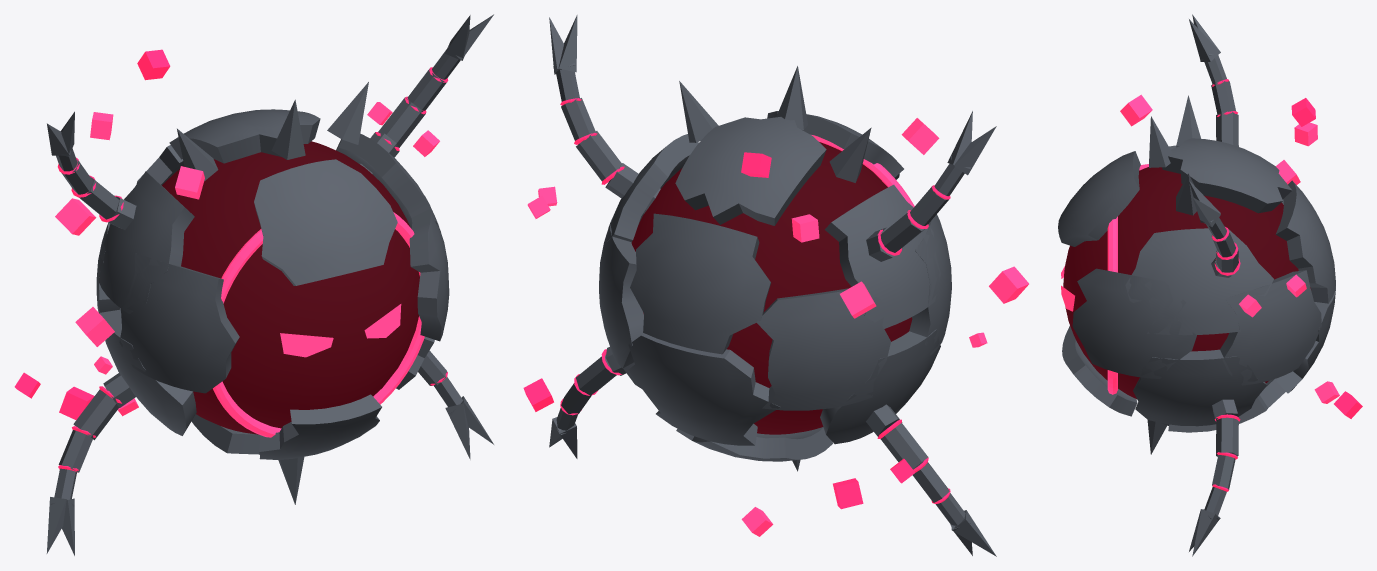
File: virus-boss.glb
The picture shows the model from 3 angles, left to right: view 1: azimuth 30°, elevation 25°; view 2: azimuth 150°, elevation 25°; view 3: azimuth 270°, elevation 25°; orthographic projection. The views are drawn at different scales.
Parts seen in each view (by area): view 1: Core, Brow, Shard_11, Shard_1, Jaw, Shard_8, Shard_10, Shard_3, FaceRing, Shard_0, Shard_9, ClawSeg_3_1 (+21 smaller); view 2: Core, Shard_4, Shard_7, Shard_8, Shard_5, Shard_1, Shard_3, Shard_6, Shard_0, Shard_11, Shard_9, Brow (+22 smaller); view 3: Core, Shard_10, Shard_0, Shard_6, Shard_2, Shard_8, Brow, Shard_4, Jaw, Shard_5, Shard_9, ClawSeg_2_1 (+17 smaller).
Part boxes in pixels (box(x1,y1,x2,y2)): Core: box(162, 141, 419, 434); Brow: box(254, 159, 397, 285); Shard_11: box(119, 253, 239, 393); Shard_1: box(98, 171, 194, 313); Jaw: box(259, 394, 381, 459); Shard_8: box(169, 109, 320, 163); Shard_10: box(402, 196, 449, 341); Shard_3: box(98, 308, 196, 435); FaceRing: box(213, 212, 424, 437); Shard_0: box(336, 133, 440, 231); Shard_9: box(191, 414, 260, 454); ClawSeg_3_1: box(73, 389, 118, 440); Core: box(631, 142, 912, 434); Shard_4: box(630, 213, 770, 354); Shard_7: box(756, 288, 890, 410); Shard_8: box(675, 117, 826, 225); Shard_5: box(628, 334, 780, 445); Shard_1: box(825, 184, 940, 328); Shard_3: box(820, 329, 940, 444); Shard_6: box(599, 217, 645, 368); Shard_0: box(607, 134, 698, 242); Shard_11: box(909, 214, 951, 355); Shard_9: box(676, 427, 832, 461); Brow: box(767, 111, 903, 179); Core: box(1063, 167, 1311, 398); Shard_10: box(1072, 268, 1196, 378); Shard_0: box(1125, 228, 1273, 335); Shard_6: box(1220, 270, 1321, 385); Shard_2: box(1133, 349, 1266, 426); Shard_8: box(1162, 138, 1292, 213); Brow: box(1058, 151, 1140, 246); Shard_4: box(1275, 180, 1335, 303); Jaw: box(1062, 326, 1137, 416); Shard_5: box(1276, 286, 1335, 393); Shard_9: box(1162, 377, 1285, 432); ClawSeg_2_1: box(1216, 417, 1238, 456).
Size of the model in its own units: 0.9946 by 0.9463 by 0.702.
